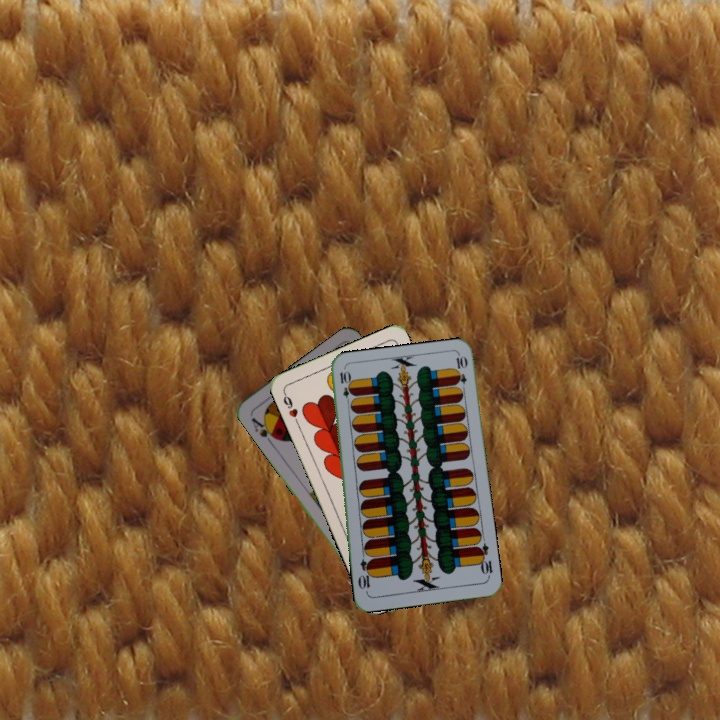E10: (473, 540, 495, 580), (336, 367, 353, 408)
H9: (279, 388, 301, 426)
SA: (247, 414, 281, 447)
